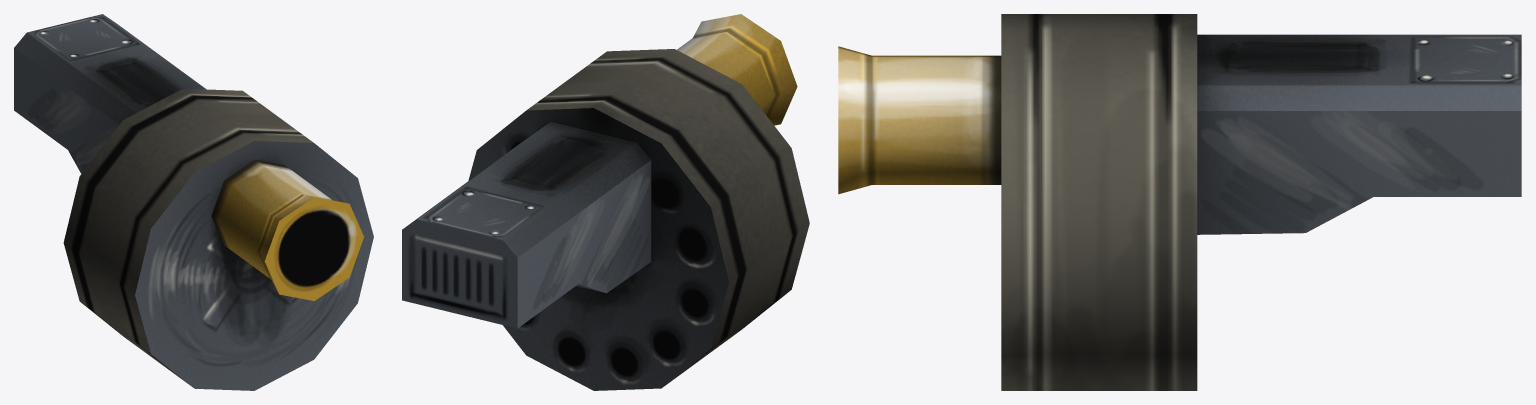
File: grenadeLauncher.fbx
The picture shows the model from 3 angles, left to right: view 1: azimuth 30°, elevation 25°; view 2: azimuth 150°, elevation 25°; view 3: azimuth 270°, elevation 25°; orthographic projection. The views are drawn at different scales.
Parts seen in each view (by area): view 1: grenadeLauncher; view 2: grenadeLauncher; view 3: grenadeLauncher.
Part boxes in pixels (box(x1,y1,x2,y2)): grenadeLauncher: box(14, 14, 373, 390); grenadeLauncher: box(402, 14, 809, 390); grenadeLauncher: box(838, 14, 1521, 390).
Size of the model in its own units: 154 by 154 by 278.
1 material, 1 textured.
